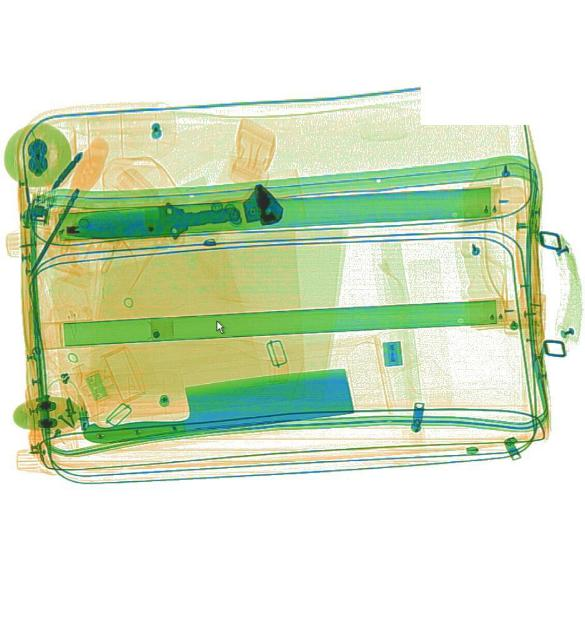Knife: (77, 363, 352, 449), (61, 197, 237, 245)
